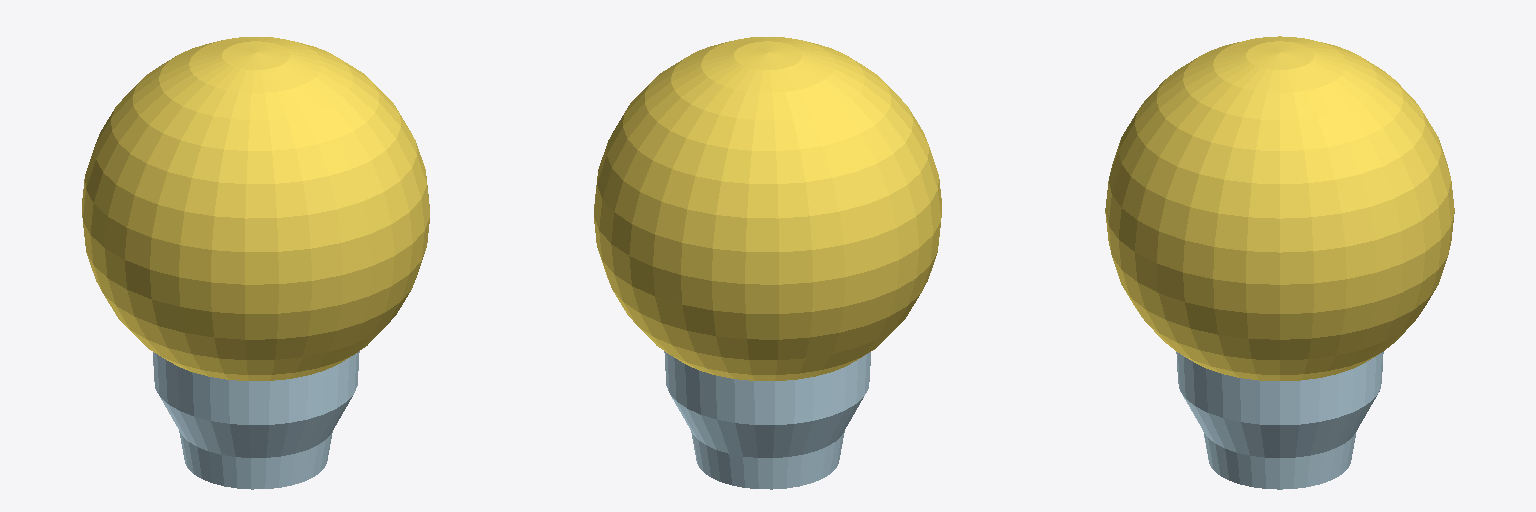
File: LightBulb.obj
The picture shows the model from 3 angles: view 1: azimuth 30°, elevation 25°; view 2: azimuth 150°, elevation 25°; view 3: azimuth 270°, elevation 25°; orthographic projection.
Visible parts, largest first — view 1: Sphere_Sphere.002, Sphere.001_Sphere.003; view 2: Sphere_Sphere.002, Sphere.001_Sphere.003; view 3: Sphere_Sphere.002, Sphere.001_Sphere.003.
Part boxes in pixels (x1,y1,x2,y2): Sphere_Sphere.002: (82, 37, 429, 380); Sphere.001_Sphere.003: (153, 351, 359, 489); Sphere_Sphere.002: (594, 37, 941, 380); Sphere.001_Sphere.003: (664, 351, 870, 489); Sphere_Sphere.002: (1105, 36, 1454, 380); Sphere.001_Sphere.003: (1176, 352, 1383, 489).
Size of the model in its own units: 0.8 by 1.03 by 0.8.